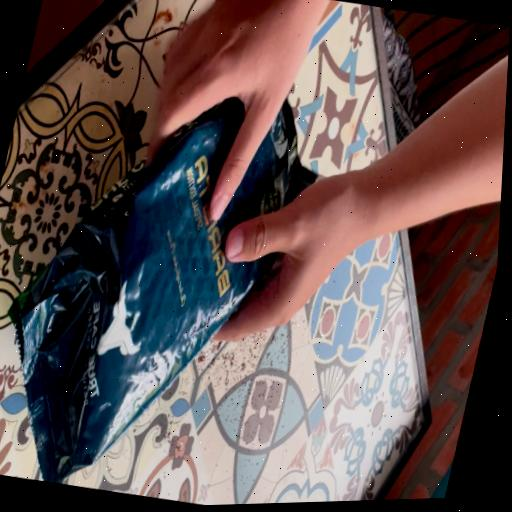cafe_hat: (8, 99, 314, 483)
